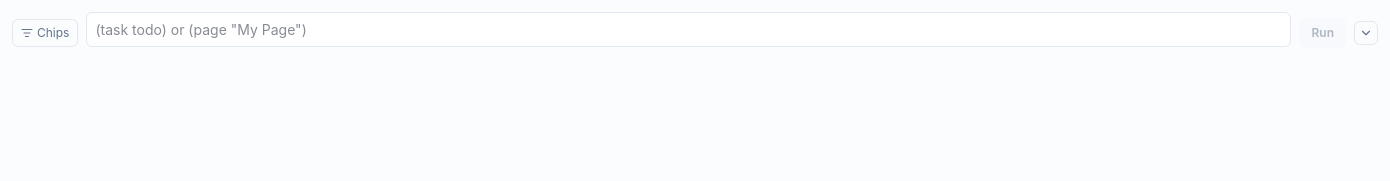
Test case: QueryInput › hides syntax hints when expand is clicked again
Step 1. Click the button with test id "query-input-expand" → (1366, 32), box [1354,20,1378,44]
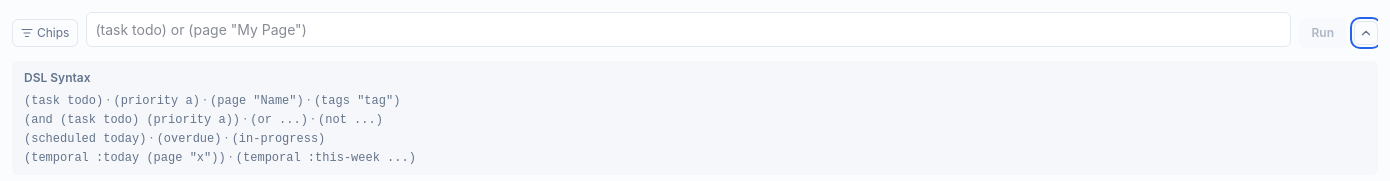
Step 2. Click the button with test id "query-input-expand" → (1366, 32), box [1354,20,1378,44]
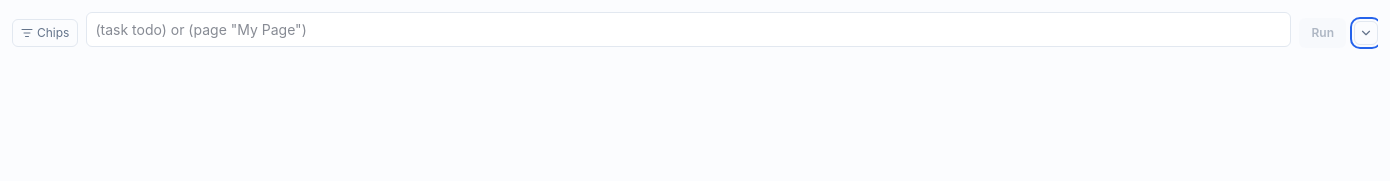
Now the element with test id "query-input-hints" is gone
